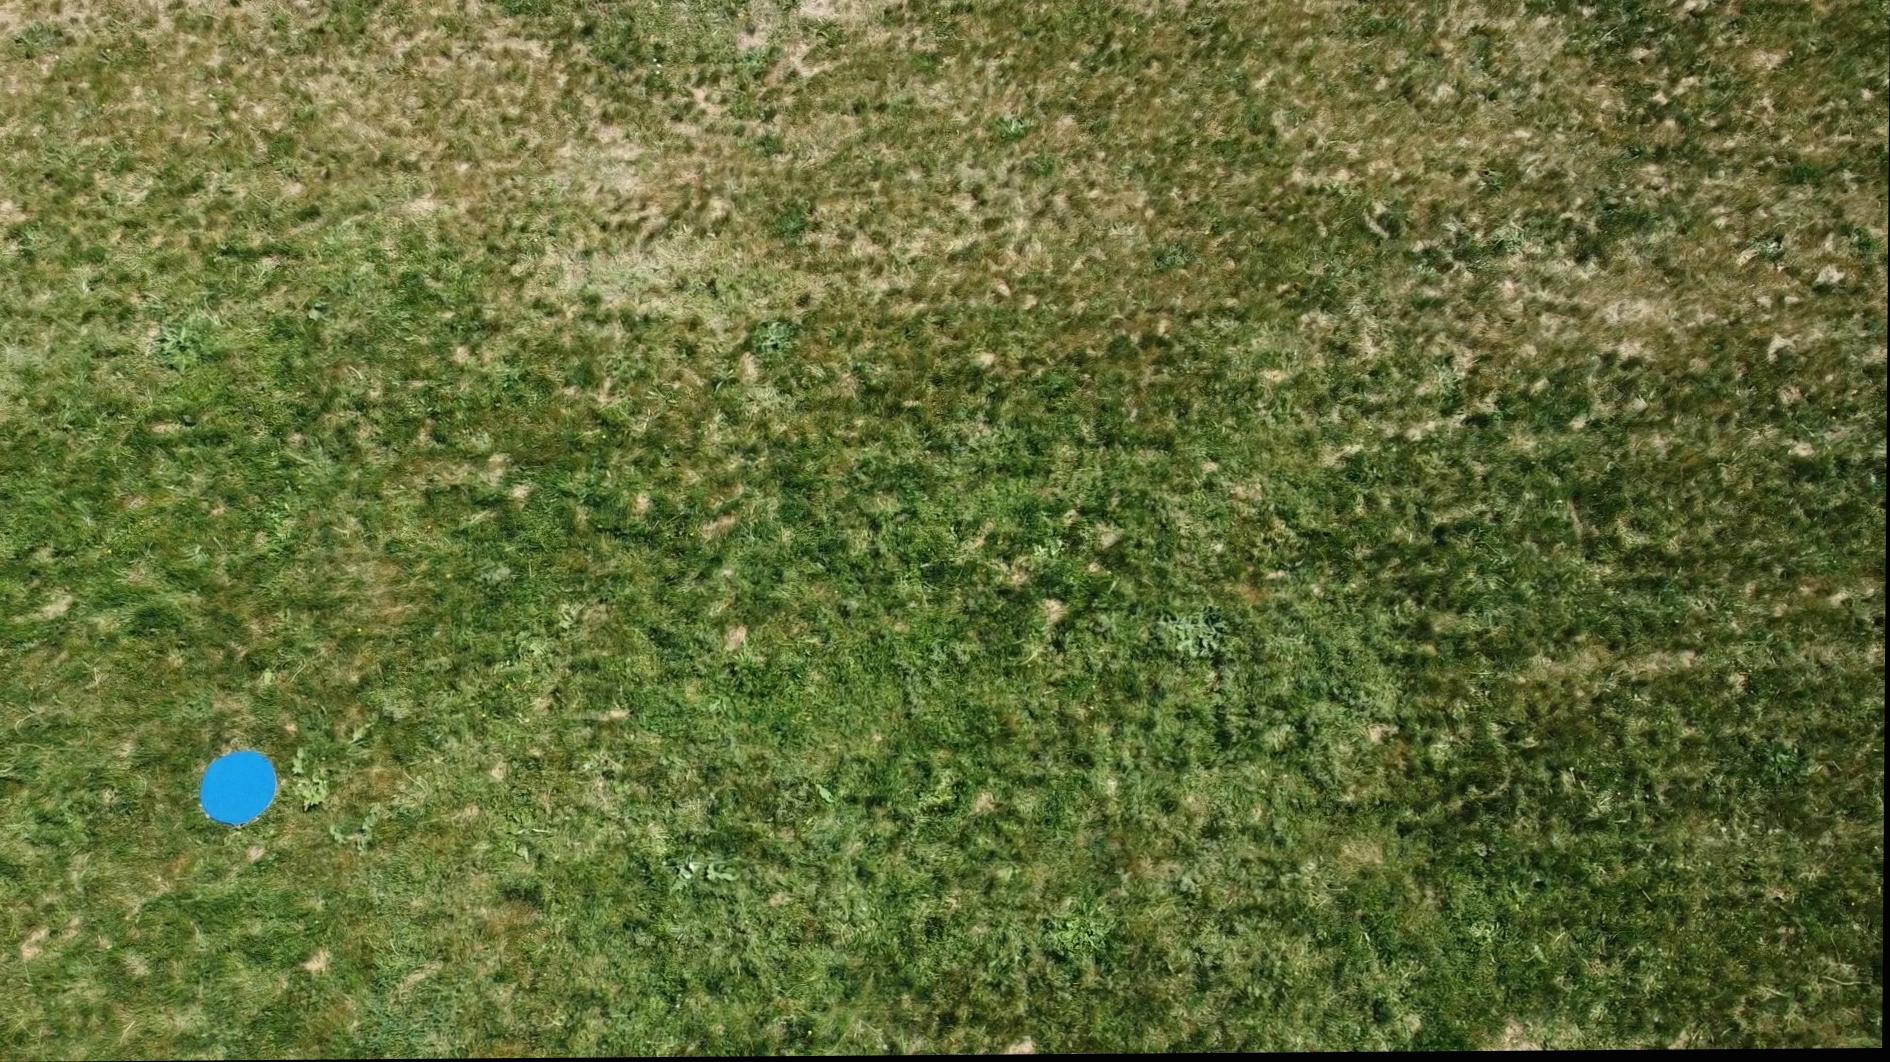Blue: (196, 749, 284, 831)
